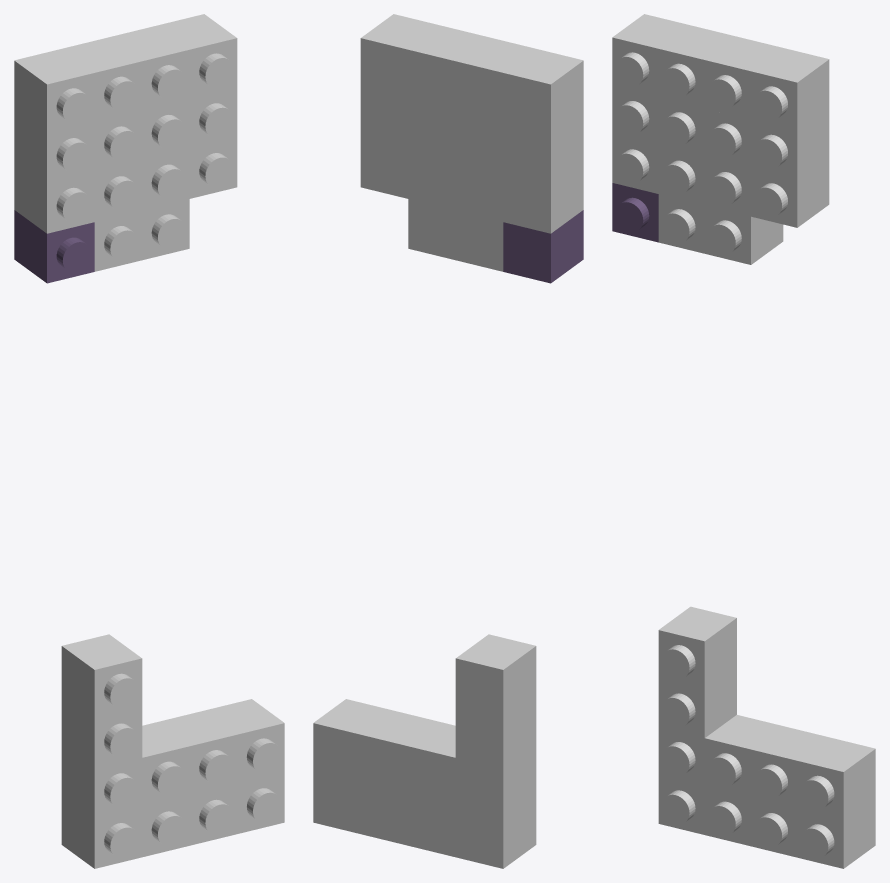
The model's file is current.glb.
3 renders of one model, left to right at view 1: azimuth 30°, elevation 25°; view 2: azimuth 150°, elevation 25°; view 3: azimuth 330°, elevation 25°, orthographic. The views are drawn at different scales.
Parts seen in each view (by area): view 1: world; view 2: world; view 3: world.
Part boxes in pixels (x1,y1,x2,y2): world: (14, 14, 284, 868); world: (313, 14, 583, 868); world: (612, 14, 875, 868).
Size of the model in its own units: 40 by 128 by 11.4.
